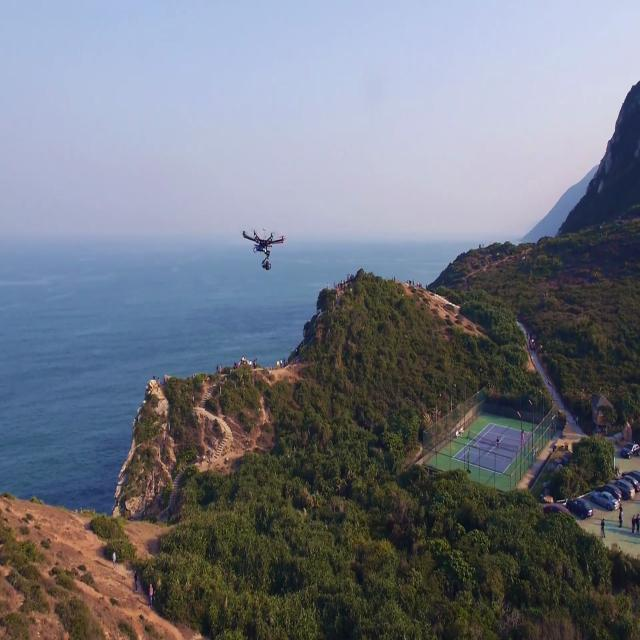drone: (239, 210, 281, 272)
